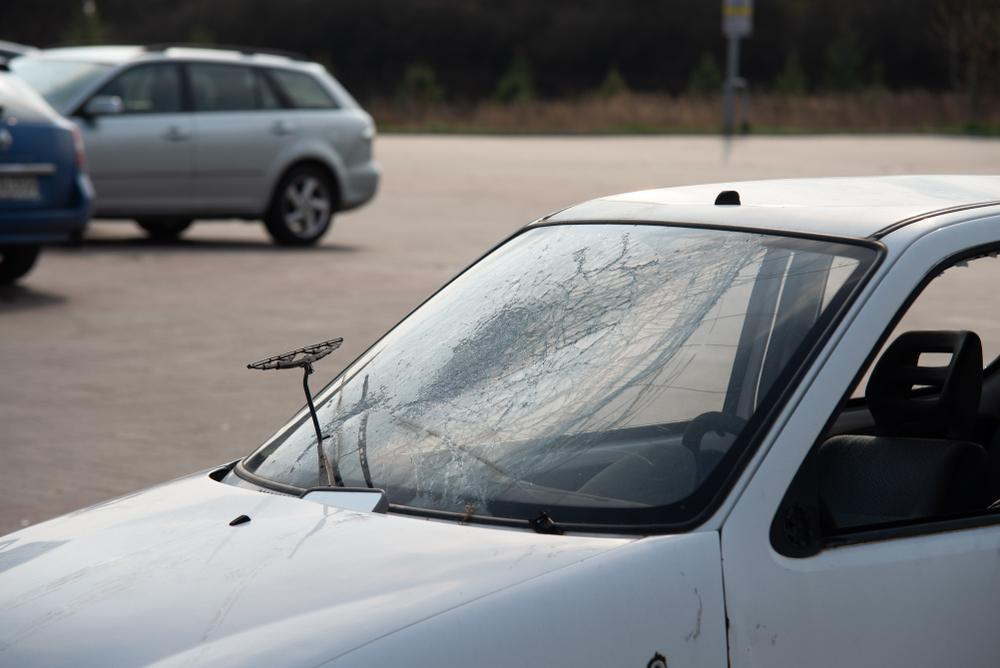dent: (589, 175, 952, 208)
glass shatter: (242, 221, 879, 526)
